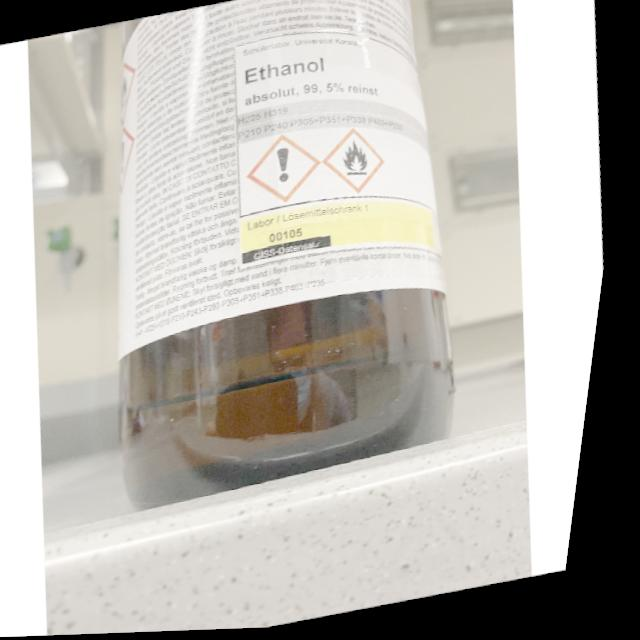flammable: (319, 124, 397, 203)
health-ozone layer hazard: (241, 129, 335, 212)
